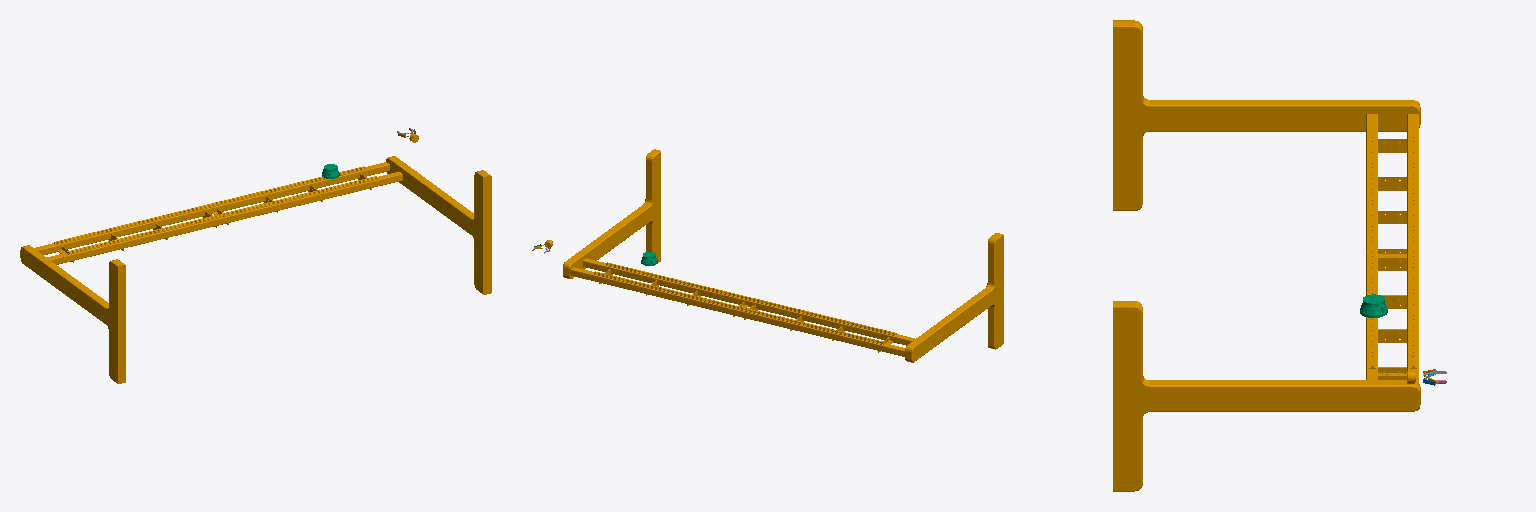
The robot description file, URDF, robot "gantry":
<?xml version="1.0" encoding="utf-8"?>
<robot name="gantry">
  <link name="gantry">
    <inertial>
      <mass value="1000"/>
      <inertia ixx="4" ixy="0" ixz="0" iyy="4" iyz="0" izz="4"/>
    </inertial>
    <visual name="gantry">
      <geometry>
        <mesh filename="./meshes/gantry.obj"/>
      </geometry>
    </visual>
  </link>
  <link name="vagn">
    <inertial>
      <origin xyz="0.0131242359 0.334235132 -0.140537232" rpy="0 0 0"/>
      <mass value="17.2644768"/>
      <inertia ixx="0.81541187" ixy="0.0592014516" ixz="-0.0127917581" iyy="1.29460571" iyz="0.182979298" izz="1.92813482"/>
    </inertial>
    <visual name="vagn">
      <geometry>
        <mesh filename="./meshes/vagn.obj"/>
      </geometry>
    </visual>
    <collision name="vagn">
      <geometry>
        <mesh filename="./meshes/vagn.obj"/>
      </geometry>
    </collision>
  </link>
  <link name="base_link">
    <inertial>
      <mass value="4"/>
      <inertia ixx="0.00610633101" ixy="0" ixz="0" iyy="0.00610633101" iyz="0" izz="0.0112500004"/>
    </inertial>
    <visual name="base_link_inertia">
      <geometry>
        <mesh filename="./meshes/base_link_inertia.obj"/>
      </geometry>
    </visual>
    <collision name="mesh">
      <geometry>
        <mesh filename="./meshes/mesh.obj"/>
      </geometry>
    </collision>
  </link>
  <link name="shoulder_link">
    <inertial>
      <mass value="7.77799988"/>
      <inertia ixx="0.0314743109" ixy="0" ixz="0" iyy="0.0314743109" iyz="0" izz="0.0218756255"/>
    </inertial>
    <visual name="shoulder_link">
      <geometry>
        <mesh filename="./meshes/shoulder_link.obj"/>
      </geometry>
    </visual>
    <collision name="mesh">
      <geometry>
        <mesh filename="./meshes/mesh_1.obj"/>
      </geometry>
    </collision>
  </link>
  <link name="upper_arm_link">
    <inertial>
      <origin xyz="-0.305999994 0 0.174999997" rpy="0 0 0"/>
      <mass value="12.9300003"/>
      <inertia ixx="0.0363656245" ixy="0" ixz="1.31912761e-08" iyy="0.421753824" iyz="0" izz="0.421753824"/>
    </inertial>
    <visual name="upper_arm_link">
      <geometry>
        <mesh filename="./meshes/upper_arm_link.obj"/>
      </geometry>
    </visual>
    <collision name="mesh">
      <geometry>
        <mesh filename="./meshes/mesh_2.obj"/>
      </geometry>
    </collision>
  </link>
  <link name="forearm_link">
    <inertial>
      <origin xyz="-0.285775006 0 0.0392999984" rpy="0 0 0"/>
      <mass value="3.86999989"/>
      <inertia ixx="0.0108843753" ixy="0" ixz="3.41972737e-09" iyy="0.110793024" iyz="0" izz="0.110793024"/>
    </inertial>
    <visual name="forearm_link">
      <geometry>
        <mesh filename="./meshes/forearm_link.obj"/>
      </geometry>
    </visual>
    <collision name="mesh">
      <geometry>
        <mesh filename="./meshes/mesh_3.obj"/>
      </geometry>
    </collision>
  </link>
  <link name="wrist_1_link">
    <inertial>
      <mass value="1.96000004"/>
      <inertia ixx="0.00510824798" ixy="0" ixz="0" iyy="0.00510824798" iyz="0" izz="0.00551250018"/>
    </inertial>
    <visual name="wrist_1_link">
      <geometry>
        <mesh filename="./meshes/wrist_1_link.obj"/>
      </geometry>
    </visual>
    <collision name="mesh">
      <geometry>
        <mesh filename="./meshes/mesh_4.obj"/>
      </geometry>
    </collision>
  </link>
  <link name="wrist_2_link">
    <inertial>
      <mass value="1.96000004"/>
      <inertia ixx="0.00510824798" ixy="0" ixz="0" iyy="0.00510824798" iyz="0" izz="0.00551250018"/>
    </inertial>
    <visual name="wrist_2_link">
      <geometry>
        <mesh filename="./meshes/wrist_2_link.obj"/>
      </geometry>
    </visual>
    <collision name="mesh">
      <geometry>
        <mesh filename="./meshes/mesh_5.obj"/>
      </geometry>
    </collision>
  </link>
  <link name="wrist_3_link">
    <inertial>
      <origin xyz="0 0 -0.0250000004" rpy="0 0 0"/>
      <mass value="0.202000007"/>
      <inertia ixx="0.000144345773" ixy="0" ixz="0" iyy="0.000144345773" iyz="0" izz="0.000204525"/>
    </inertial>
    <visual name="wrist_3_link">
      <geometry>
        <mesh filename="./meshes/wrist_3_link.obj"/>
      </geometry>
    </visual>
    <collision name="mesh">
      <geometry>
        <mesh filename="./meshes/mesh_6.obj"/>
      </geometry>
    </collision>
  </link>
  <link name="robotiq_base_link">
    <visual name="_F_Body">
      <geometry>
        <mesh filename="./meshes/_F_Body.obj"/>
      </geometry>
    </visual>
    <collision name="_F_Body">
      <geometry>
        <mesh filename="./meshes/_F_Body.obj"/>
      </geometry>
    </collision>
  </link>
  <link name="left_outer_knuckle">
    <inertial>
      <origin xyz="-0.052893769 0.0531833768 0" rpy="0 0 0"/>
      <mass value="0.00916329306"/>
      <inertia ixx="2.13106688e-07" ixy="0" ixz="0" iyy="6.73438819e-07" iyz="0" izz="7.51600794e-07"/>
    </inertial>
    <visual name="Finger1">
      <geometry>
        <mesh filename="./meshes/Finger1.obj"/>
      </geometry>
    </visual>
    <collision name="Finger1">
      <geometry>
        <mesh filename="./meshes/Finger1.obj"/>
      </geometry>
    </collision>
  </link>
  <link name="right_outer_knuckle">
    <inertial>
      <origin xyz="-0.052893769 0.0531833768 0" rpy="0 0 0"/>
      <mass value="0.00916329306"/>
      <inertia ixx="2.13106688e-07" ixy="0" ixz="0" iyy="6.73438819e-07" iyz="0" izz="7.51600794e-07"/>
    </inertial>
    <visual name="Finger1">
      <geometry>
        <mesh filename="./meshes/Finger1_1.obj"/>
      </geometry>
    </visual>
    <collision name="Finger1">
      <geometry>
        <mesh filename="./meshes/Finger1_1.obj"/>
      </geometry>
    </collision>
  </link>
  <link name="left_outer_finger">
    <inertial>
      <origin xyz="-0.0767080188 0.0845726952 3.06424522e-06" rpy="0 0 0"/>
      <mass value="0.0770642534"/>
      <inertia ixx="4.52990186e-05" ixy="2.17302807e-05" ixz="-9.93454017e-14" iyy="1.90860704e-05" iyz="1.27843922e-13" izz="5.35424406e-05"/>
    </inertial>
    <visual name="Finger2">
      <geometry>
        <mesh filename="./meshes/Finger2.obj"/>
      </geometry>
    </visual>
    <collision name="Finger2">
      <geometry>
        <mesh filename="./meshes/Finger2.obj"/>
      </geometry>
    </collision>
  </link>
  <link name="right_outer_finger">
    <inertial>
      <origin xyz="-0.0767080188 0.0845726952 3.06424522e-06" rpy="0 0 0"/>
      <mass value="0.0770642534"/>
      <inertia ixx="4.52990186e-05" ixy="2.17302807e-05" ixz="-9.93454017e-14" iyy="1.90860704e-05" iyz="1.27843922e-13" izz="5.35424406e-05"/>
    </inertial>
    <visual name="Finger2">
      <geometry>
        <mesh filename="./meshes/Finger2_1.obj"/>
      </geometry>
    </visual>
    <collision name="Finger2">
      <geometry>
        <mesh filename="./meshes/Finger2_1.obj"/>
      </geometry>
    </collision>
  </link>
  <link name="left_inner_finger">
    <inertial>
      <origin xyz="0.160889998 0.0814799964 -1.47829735e-06" rpy="0 0 0"/>
      <mass value="0.0498343818"/>
      <inertia ixx="3.79158422e-06" ixy="3.36841854e-06" ixz="9.84051215e-09" iyy="1.83739636e-05" iyz="-5.77592542e-09" izz="1.7129654e-05"/>
    </inertial>
    <visual name="Fingertip">
      <geometry>
        <mesh filename="./meshes/Fingertip.obj"/>
      </geometry>
    </visual>
    <visual name="Finger4">
      <geometry>
        <mesh filename="./meshes/Finger4.obj"/>
      </geometry>
    </visual>
    <collision name="Fingertip">
      <geometry>
        <mesh filename="./meshes/Fingertip.obj"/>
      </geometry>
    </collision>
    <collision name="Finger4">
      <geometry>
        <mesh filename="./meshes/Finger4.obj"/>
      </geometry>
    </collision>
  </link>
  <link name="right_inner_finger">
    <inertial>
      <origin xyz="0.16088824 -0.0814771429 -1.47829735e-06" rpy="0 0 0"/>
      <mass value="0.0498343818"/>
      <inertia ixx="3.79158136e-06" ixy="-3.36836547e-06" ixz="2.03253154e-08" iyy="1.83739902e-05" iyz="1.84271791e-09" izz="1.71296302e-05"/>
    </inertial>
    <visual name="Finger4">
      <geometry>
        <mesh filename="./meshes/Finger4_1.obj"/>
      </geometry>
    </visual>
    <visual name="Fingertip">
      <geometry>
        <mesh filename="./meshes/Fingertip_1.obj"/>
      </geometry>
    </visual>
    <collision name="Finger4">
      <geometry>
        <mesh filename="./meshes/Finger4_1.obj"/>
      </geometry>
    </collision>
    <collision name="Fingertip">
      <geometry>
        <mesh filename="./meshes/Fingertip_1.obj"/>
      </geometry>
    </collision>
  </link>
  <link name="left_inner_knuckle">
    <inertial>
      <origin xyz="-0.0482579768 0.101011693 -4.59329508e-09" rpy="0 0 0"/>
      <mass value="0.0681122169"/>
      <inertia ixx="3.28597215e-05" ixy="2.15827734e-05" ixz="-5.09471736e-08" iyy="2.55428598e-05" iyz="-1.14897097e-08" izz="4.53846594e-05"/>
    </inertial>
    <visual name="Finger3">
      <geometry>
        <mesh filename="./meshes/Finger3.obj"/>
      </geometry>
    </visual>
    <collision name="Finger3">
      <geometry>
        <mesh filename="./meshes/Finger3.obj"/>
      </geometry>
    </collision>
  </link>
  <link name="right_inner_knuckle">
    <inertial>
      <origin xyz="-0.0482579768 0.101011693 -4.59329508e-09" rpy="0 0 0"/>
      <mass value="0.0681122169"/>
      <inertia ixx="3.28597215e-05" ixy="2.15827734e-05" ixz="-5.09471736e-08" iyy="2.55428598e-05" iyz="-1.14897097e-08" izz="4.53846594e-05"/>
    </inertial>
    <visual name="Finger3">
      <geometry>
        <mesh filename="./meshes/Finger3_1.obj"/>
      </geometry>
    </visual>
    <collision name="Finger3">
      <geometry>
        <mesh filename="./meshes/Finger3_1.obj"/>
      </geometry>
    </collision>
  </link>
  <link name="grasp_frame"/>
  <joint name="gantry_vagn_joint" type="prismatic">
    <origin xyz="3.26999998 -0.294999987 0.159999996" rpy="0 0 0"/>
    <parent link="gantry"/>
    <child link="vagn"/>
    <axis xyz="1 0 0"/>
    <limit lower="-3.0999999" upper="0" effort="10000000"/>
    <dynamics friction="0.5"/>
    <!-- isaac:source_drive {"armature": 0.10000000149011612, "drive": {"damping": 10000.0, "max_force": 10000000.0, "stiffness": 100000.0, "target_position": -0.0030837091617286205}, "instance": "linear", "source": "physx"} -->
  </joint>
  <joint name="vagn_robot_joint" type="fixed">
    <origin xyz="-0.000767631344 -8.48818047e-08 -6.76271554e-08" rpy="0 0 0"/>
    <parent link="vagn"/>
    <child link="base_link"/>
  </joint>
  <joint name="shoulder_pan_joint" type="revolute">
    <origin xyz="-3.9980419e-10 -1.36228415e-07 0.180700011" rpy="-9.87895163e-08 2.06467009e-09 -3.14159257"/>
    <parent link="base_link"/>
    <child link="shoulder_link"/>
    <axis xyz="0 0 1"/>
    <limit lower="-6.28318531" upper="6.28318531" effort="330"/>
    <dynamics friction="0"/>
    <!-- isaac:source_drive {"armature": 0.0, "drive": {"damping": 13.085969924926758, "max_force": 330.0, "stiffness": 3271.49169921875, "target_position": 0.0}, "instance": "angular", "source": "physx"} -->
  </joint>
  <joint name="shoulder_lift_joint" type="revolute">
    <origin xyz="-5.46212733e-08 -5.43409062e-09 -5.95945868e-08" rpy="1.57079623 1.51642689e-08 -0.000424333755"/>
    <parent link="shoulder_link"/>
    <child link="upper_arm_link"/>
    <axis xyz="0 0 1"/>
    <limit lower="-6.28318531" upper="6.28318531" effort="330"/>
    <dynamics friction="0"/>
    <!-- isaac:source_drive {"armature": 0.0, "drive": {"damping": 13.085969924926758, "max_force": 330.0, "stiffness": 3271.49169921875, "target_position": 0.0}, "instance": "angular", "source": "physx"} -->
  </joint>
  <joint name="elbow_joint" type="revolute">
    <origin xyz="-0.612699986 1.38446415e-06 -2.01023612e-08" rpy="9.31373753e-08 -3.28104676e-08 -2.25968064e-06"/>
    <parent link="upper_arm_link"/>
    <child link="forearm_link"/>
    <axis xyz="0 0 1"/>
    <limit lower="-3.14159265" upper="3.14159265" effort="150"/>
    <dynamics friction="0"/>
    <!-- isaac:source_drive {"armature": 0.0, "drive": {"damping": 13.085966110229492, "max_force": 150.0, "stiffness": 3271.49169921875, "target_position": 0.0}, "instance": "angular", "source": "physx"} -->
  </joint>
  <joint name="wrist_1_joint" type="revolute">
    <origin xyz="-0.571549948 2.57202591e-06 0.174150182" rpy="0 0 -4.4943246e-06"/>
    <parent link="forearm_link"/>
    <child link="wrist_1_link"/>
    <axis xyz="0 0 1"/>
    <limit lower="-6.28318531" upper="6.28318531" effort="56"/>
    <dynamics friction="0"/>
    <!-- isaac:source_drive {"armature": 0.0, "drive": {"damping": 5.072744369506836, "max_force": 56.0, "stiffness": 1268.18603515625, "target_position": 0.0}, "instance": "angular", "source": "physx"} -->
  </joint>
  <joint name="wrist_2_joint" type="revolute">
    <origin xyz="-2.30227668e-06 -0.119849984 1.71844243e-07" rpy="1.57079627 4.08792937e-08 -1.9100657e-05"/>
    <parent link="wrist_1_link"/>
    <child link="wrist_2_link"/>
    <axis xyz="0 0 1"/>
    <limit lower="-6.28318531" upper="6.28318531" effort="56"/>
    <dynamics friction="0"/>
    <!-- isaac:source_drive {"armature": 0.0, "drive": {"damping": 5.070000171661377, "max_force": 56.0, "stiffness": 1268.18603515625, "target_position": 0.0}, "instance": "angular", "source": "physx"} -->
  </joint>
  <joint name="wrist_3_joint" type="revolute">
    <origin xyz="-1.66508748e-06 0.116550042 -1.00841967e-08" rpy="-1.57079616 -8.74236135e-08 1.46938225e-05"/>
    <parent link="wrist_2_link"/>
    <child link="wrist_3_link"/>
    <axis xyz="0 0 1"/>
    <limit lower="-6.28318531" upper="6.28318531" effort="56"/>
    <dynamics friction="0"/>
    <!-- isaac:source_drive {"armature": 0.0, "drive": {"damping": 5.070000171661377, "max_force": 56.0, "stiffness": 1268.18603515625, "target_position": 0.0}, "instance": "angular", "source": "physx"} -->
  </joint>
  <joint name="ur10e_gripper_fixed_joint" type="fixed">
    <origin xyz="8.72481305e-08 8.04929307e-09 -1.852344e-08" rpy="-1.55040615e-08 -7.91894411e-08 -1.57079531"/>
    <parent link="wrist_3_link"/>
    <child link="robotiq_base_link"/>
  </joint>
  <joint name="finger_joint" type="revolute">
    <origin xyz="-1.10565879e-09 -0.0306011457 0.0546625182" rpy="-1.57079633 -1.82875326e-10 -1.57079636"/>
    <parent link="robotiq_base_link"/>
    <child link="left_outer_knuckle"/>
    <axis xyz="0 0 -1"/>
    <limit lower="0" upper="0.785398163" effort="1000"/>
    <dynamics friction="0"/>
    <!-- isaac:source_drive {"armature": 0.0, "drive": {"damping": 200.0, "max_force": 1000.0, "stiffness": 2000.0, "target_position": 0.0}, "instance": "angular", "source": "physx"} -->
  </joint>
  <joint name="right_outer_knuckle_joint" type="revolute">
    <origin xyz="1.11987991e-09 0.0306011457 0.0546625182" rpy="-1.57079633 1.82875104e-10 1.57079629"/>
    <parent link="robotiq_base_link"/>
    <child link="right_outer_knuckle"/>
    <axis xyz="0 0 -1"/>
    <limit lower="0" upper="1.30899694"/>
    <dynamics friction="0"/>
    <mimic joint="finger_joint" multiplier="1" offset="0"/>
    <!-- isaac:source_drive {"armature": 0.0, "drive": {"damping": 0.0, "max_force": Infinity, "stiffness": 0.0, "target_position": 0.0}, "instance": "angular", "source": "physx"} -->
  </joint>
  <joint name="left_outer_finger_joint" type="revolute">
    <origin xyz="0.0314221386 0.00455084384 2.17017425e-08" rpy="2.71550068e-08 1.38923483e-07 -3.14100456"/>
    <parent link="left_outer_knuckle"/>
    <child link="left_outer_finger"/>
    <axis xyz="0 0 1"/>
    <limit lower="0" upper="3.14159265" effort="1000"/>
    <dynamics friction="0"/>
    <!-- isaac:source_drive {"armature": 0.0, "drive": {"damping": 200.0, "max_force": 1000.0, "stiffness": 2000.0, "target_position": 0.0}, "instance": "angular", "source": "physx"} -->
  </joint>
  <joint name="right_outer_finger_joint" type="revolute">
    <origin xyz="0.0314225921 0.00454656571 -1.02217176e-08" rpy="-1.32201866e-07 1.54193303e-07 -3.14113842"/>
    <parent link="right_outer_knuckle"/>
    <child link="right_outer_finger"/>
    <axis xyz="0 0 1"/>
    <limit lower="0" upper="3.14159265" effort="1000"/>
    <dynamics friction="0"/>
    <!-- isaac:source_drive {"armature": 0.0, "drive": {"damping": 200.0, "max_force": 1000.0, "stiffness": 2000.0, "target_position": 0.0}, "instance": "angular", "source": "physx"} -->
  </joint>
  <joint name="left_inner_finger_joint" type="continuous">
    <origin xyz="-0.0355057219 0.0788648372 -2.65588017e-08" rpy="-7.22823373e-08 -1.77286225e-08 0.000957323187"/>
    <parent link="left_outer_finger"/>
    <child link="left_inner_finger"/>
    <axis xyz="0 0 -1"/>
    <limit effort="1"/>
    <dynamics friction="0"/>
    <!-- isaac:source_drive {"armature": 0.0, "drive": {"damping": 9.999999747378752e-06, "max_force": 1.0, "stiffness": 0.0020000000949949026, "target_position": 0.0}, "instance": "angular", "source": "physx"} -->
  </joint>
  <joint name="right_inner_finger_joint" type="continuous">
    <origin xyz="-0.0355754995 0.0788334797 4.06460044e-08" rpy="-3.14159245 2.39453713e-08 0.00184061717"/>
    <parent link="right_outer_finger"/>
    <child link="right_inner_finger"/>
    <axis xyz="0 0 1"/>
    <limit effort="1"/>
    <dynamics friction="0"/>
    <!-- isaac:source_drive {"armature": 0.0, "drive": {"damping": 9.999999747378752e-06, "max_force": 1.0, "stiffness": 0.0020000000949949026, "target_position": 0.0}, "instance": "angular", "source": "physx"} -->
  </joint>
  <joint name="left_inner_finger_pad_joint" type="revolute">
    <origin xyz="0.017921698 0.00645796411 -8.60696581e-09" rpy="-1.27295329e-07 -1.27329911e-08 -0.00320146338"/>
    <parent link="left_inner_finger"/>
    <child link="left_inner_knuckle"/>
    <axis xyz="0 0 -1"/>
    <limit lower="-0.785398163" upper="0.785398163"/>
    <dynamics friction="0"/>
    <!-- isaac:source_drive {"armature": 0.0, "drive": {"damping": 0.0, "max_force": Infinity, "stiffness": 0.0, "target_position": 0.0}, "instance": "angular", "source": "physx"} -->
  </joint>
  <joint name="right_inner_finger_pad_joint" type="revolute">
    <origin xyz="0.0179457499 -0.00639145814 1.00667785e-08" rpy="3.14159249 -8.05356316e-09 0.00691528837"/>
    <parent link="right_inner_finger"/>
    <child link="right_inner_knuckle"/>
    <axis xyz="0 0 -1"/>
    <limit lower="-0.785398163" upper="0.785398163"/>
    <dynamics friction="0"/>
    <!-- isaac:source_drive {"armature": 0.0, "drive": {"damping": 0.0, "max_force": Infinity, "stiffness": 0.0, "target_position": 0.0}, "instance": "angular", "source": "physx"} -->
  </joint>
  <joint name="grasp_frame_fixed_joint" type="fixed">
    <origin xyz="0 0 0.158154975" rpy="-2.11954905e-10 1.50775151e-10 -4.21460459e-08"/>
    <parent link="robotiq_base_link"/>
    <child link="grasp_frame"/>
  </joint>
  <loop_joint name="left_inner_knuckle_joint" type="revolute">
    <link1 link="robotiq_base_link" xyz="0 -0.0126999998 0.0611780025" rpy="-1.57079633 0 1.57079633"/>
    <link2 link="left_inner_knuckle" xyz="-0.0126999998 0.0614200011 0" rpy="3.14159265 0 0"/>
  </loop_joint>
  <loop_joint name="right_inner_knuckle_joint" type="revolute">
    <link1 link="robotiq_base_link" xyz="0 0.0126999998 0.0611780025" rpy="-1.57079633 0 1.57079633"/>
    <link2 link="right_inner_knuckle" xyz="-0.0126999998 0.0614200011 0" rpy="0 0 3.14159265"/>
  </loop_joint>
</robot>

--- What the picture shows (computed from the rendered views, not written in the file) ---
The picture shows the robot from 3 angles, left to right: view 1: azimuth 30°, elevation 25°; view 2: azimuth 150°, elevation 25°; view 3: azimuth 270°, elevation 25°; orthographic projection.
Model gantry with 19 links and 18 joints (12 revolute, 2 continuous, 1 prismatic, 3 fixed), rooted at gantry, posed all joints at 0.
Visible links, largest first — view 1: gantry; view 2: gantry; view 3: gantry, base_link.
Boxes of the visible links, x1,y1,x2,y2 form: gantry: (20,156,491,383); gantry: (563,149,1003,362); gantry: (1113,20,1420,491); base_link: (1360,294,1387,317).
Bounding box of the posed robot: 4.96 × 2.28 × 1.4 m (x, y, z).
13 mesh visuals loaded from 20 distinct referenced files (13 OBJ); not drawn: 7 (reference not matched to a file when rendering).
